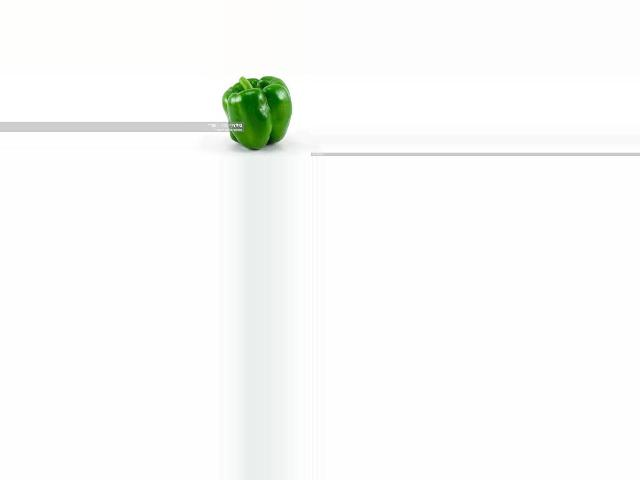bell_pepper: (223, 72, 294, 152)
